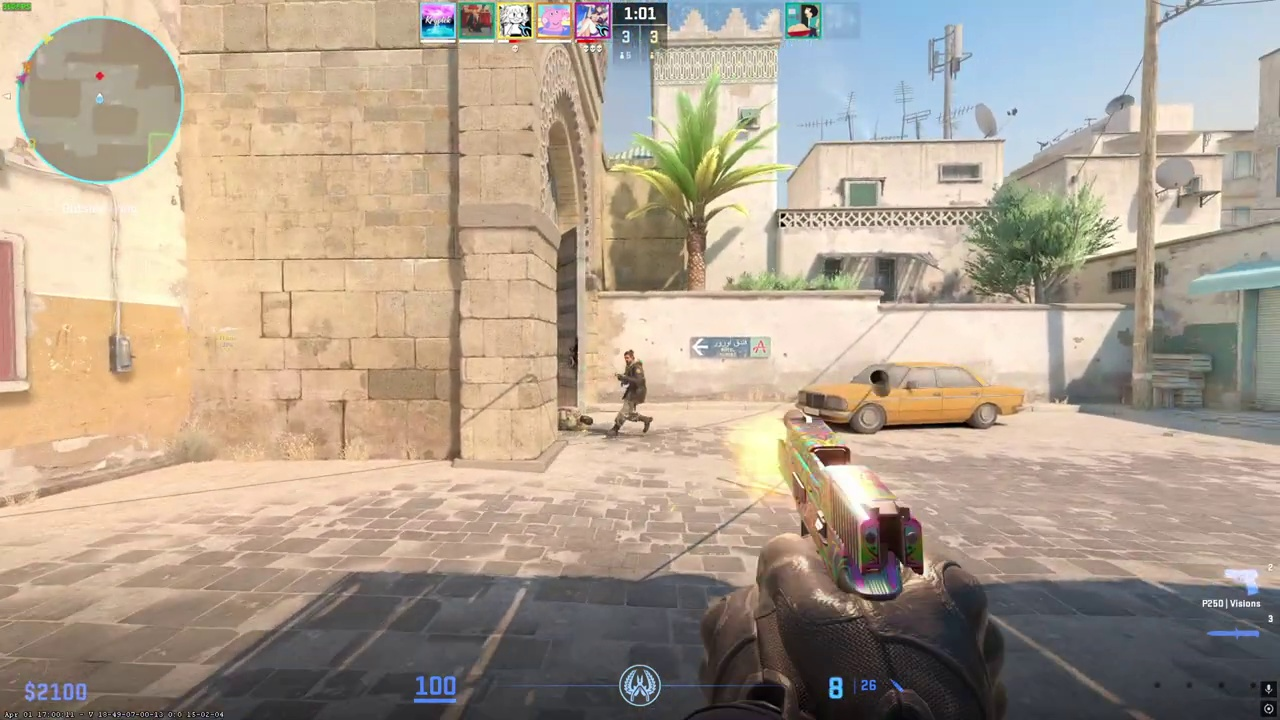Terrorist: (610, 349, 653, 435)
